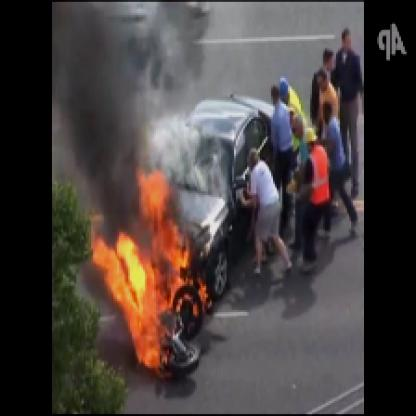Fire: (108, 171, 212, 382)
Smoke: (73, 2, 193, 208)
